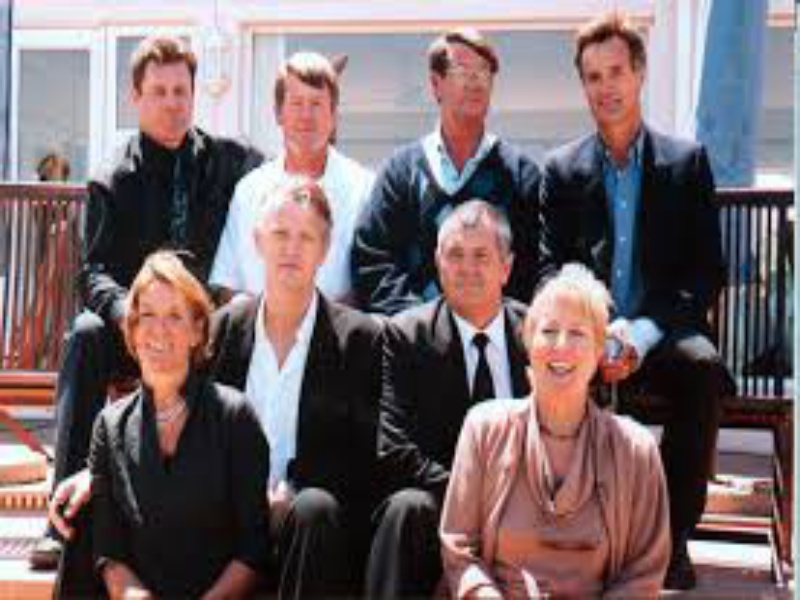TsisyArotava: (517, 273, 609, 413)
